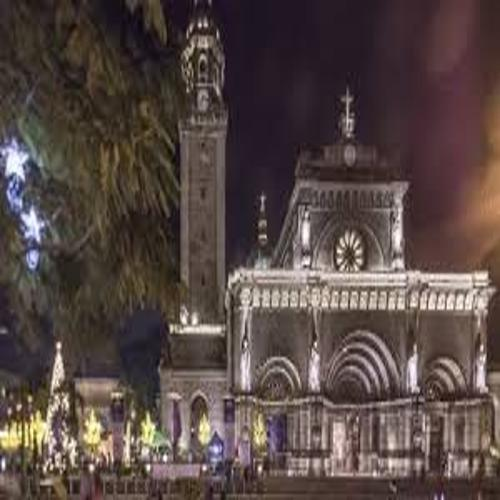Manila Cathedral Church: (154, 12, 492, 486)
